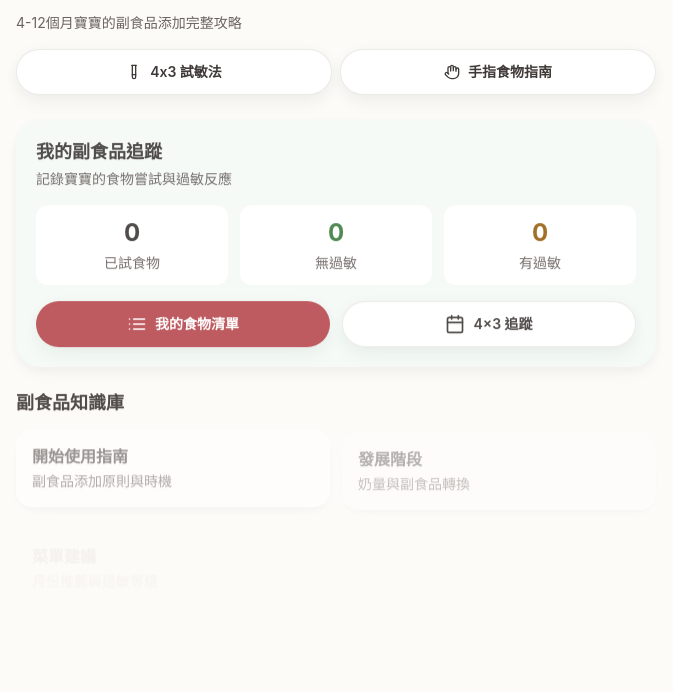
追蹤區的兩個入口 › 「我的食物清單」進到追蹤檢視，分頁列兩個選項都在
Click the button "我的食物清單" at (183, 324), box [36, 301, 330, 347]
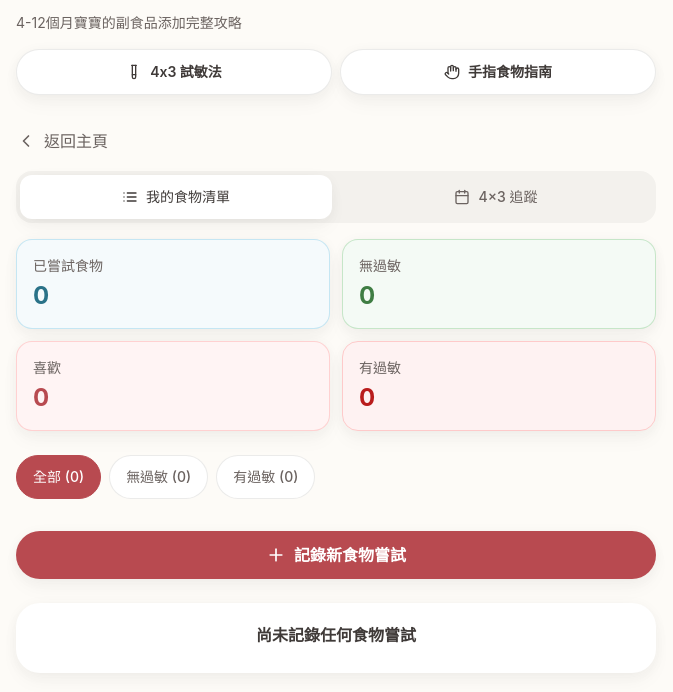
Expected: the button "我的食物清單" is shown, [20, 175, 332, 219]
Result: the heading "我的副食品追蹤" is gone
